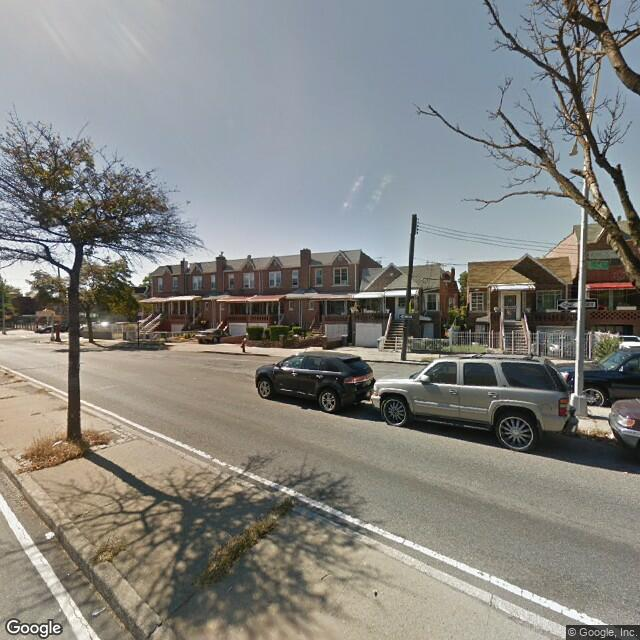litter: (38, 527, 56, 543), (89, 606, 109, 619)
